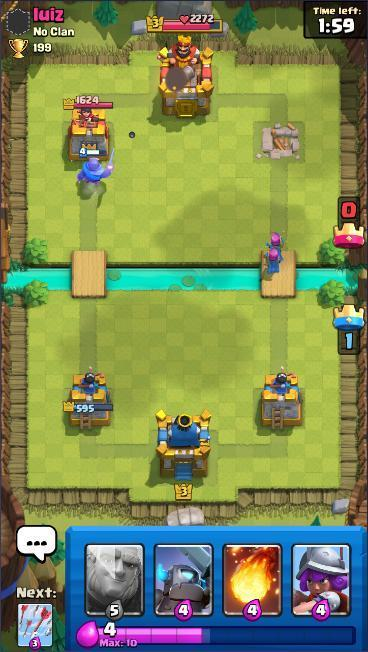EKingTower: (158, 36, 213, 116)
EnemyPrincessTower: (67, 102, 112, 159)
OArcher: (265, 247, 279, 277), (266, 232, 284, 255)
OKnight: (77, 151, 113, 184)
OwnKingTower: (155, 410, 210, 477), (63, 369, 112, 427), (260, 369, 301, 425)
TowerDown: (254, 123, 301, 158)
